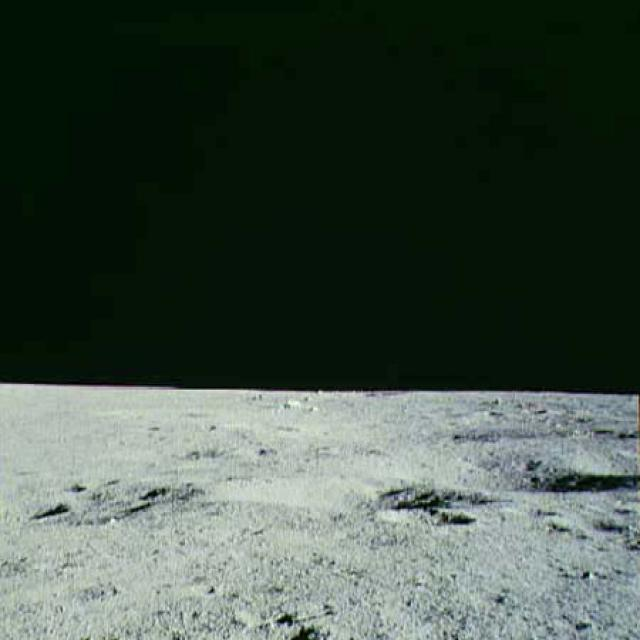crater: (191, 465, 474, 538), (386, 428, 640, 502)
rock: (43, 484, 80, 518), (56, 474, 100, 495)
